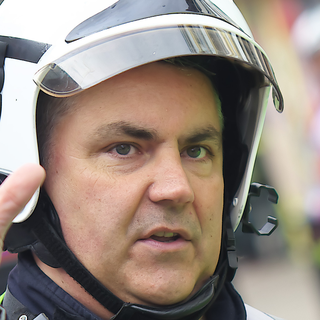eye: (99, 138, 147, 161), (177, 141, 217, 164)
